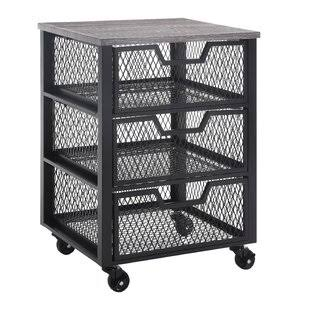Carts: (36, 18, 261, 290)
